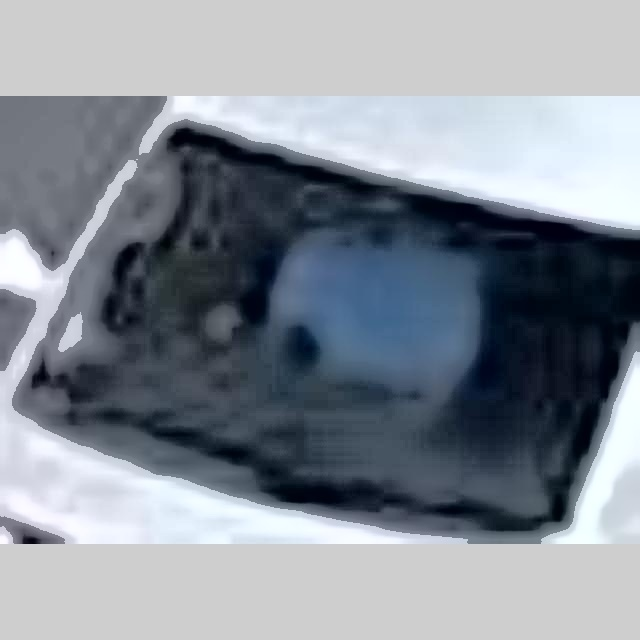tidak-pakai: (258, 172, 487, 421)
